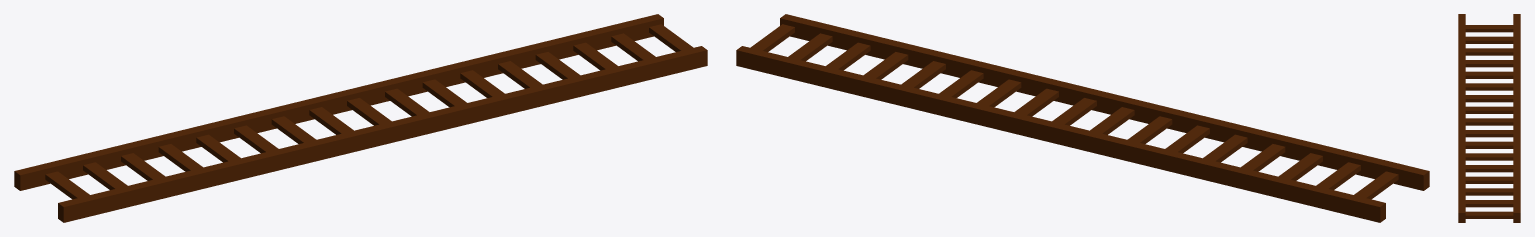
File: large_stairs.obj
3 views of the same model, side by side, from view 1: azimuth 30°, elevation 25°; view 2: azimuth 150°, elevation 25°; view 3: azimuth 270°, elevation 25° (orthographic). The views are drawn at different scales.
Visible parts, largest first — view 1: obj1; view 2: obj1; view 3: obj1.
Part boxes in pixels (x1,y1,x2,y2): obj1: (14,14,707,222); obj1: (736,14,1429,222); obj1: (1458,14,1520,222).
Size of the model in its own units: 0.384 by 0.009 by 0.051.
